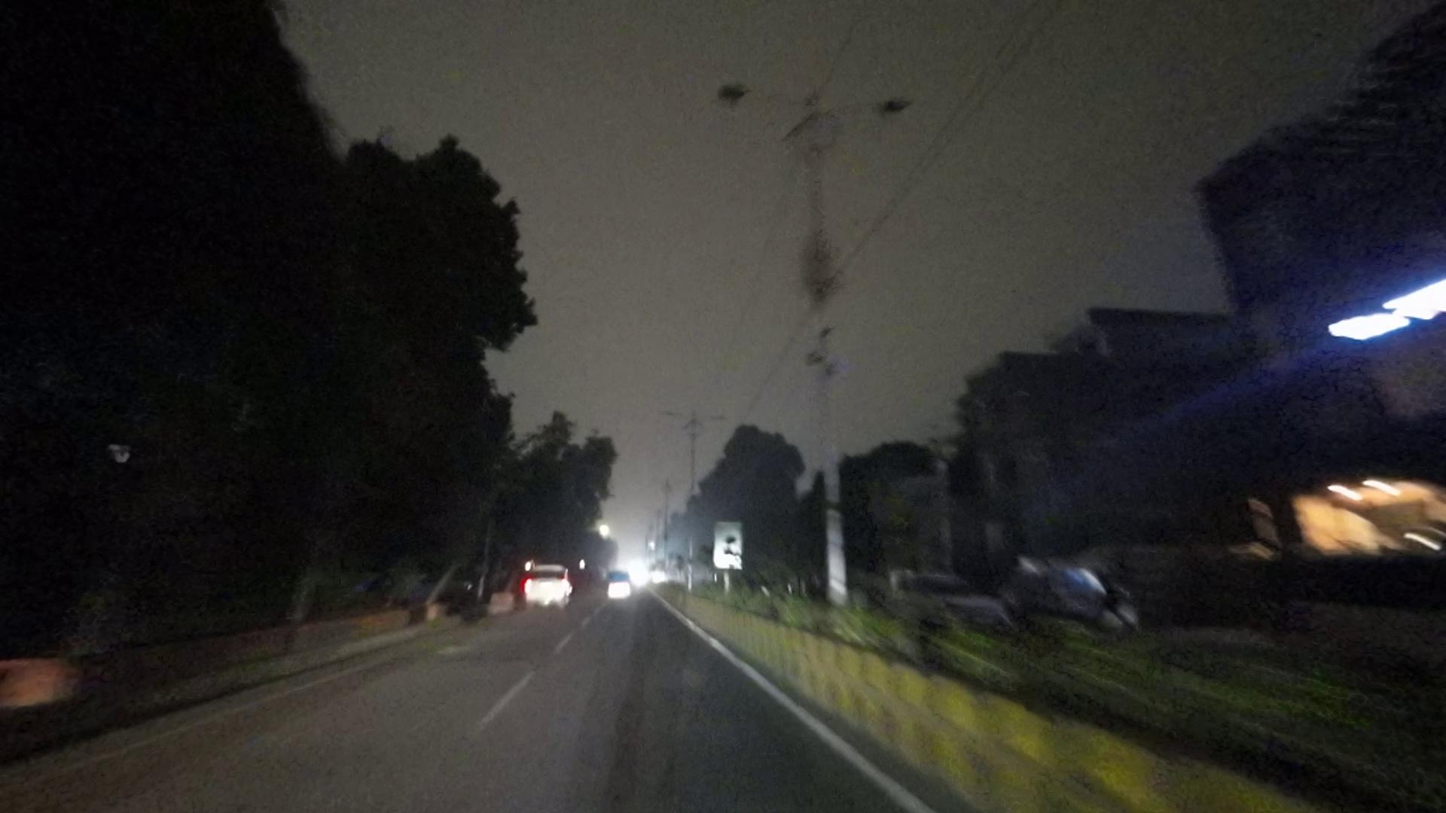streetlight: (717, 82, 804, 110), (832, 95, 920, 116)
